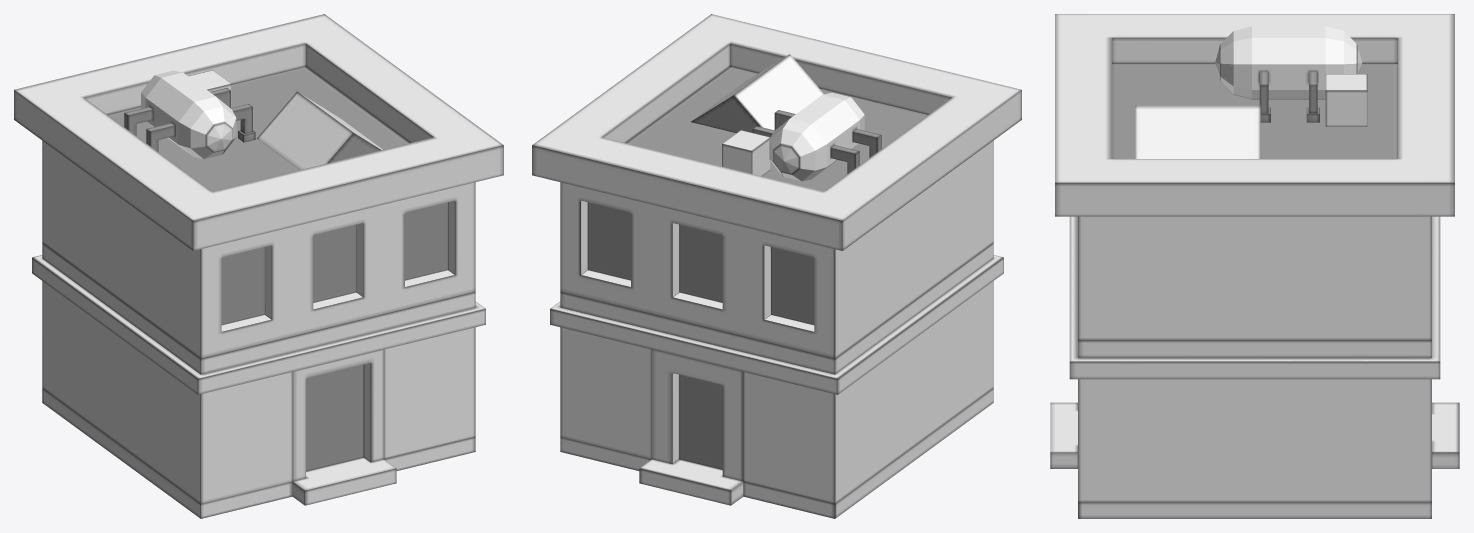
File: Building-09.fbx
The picture shows the model from 3 angles, left to right: view 1: azimuth 30°, elevation 25°; view 2: azimuth 150°, elevation 25°; view 3: azimuth 270°, elevation 25°; orthographic projection. The views are drawn at different scales.
Visible parts, largest first — view 1: Building_09; view 2: Building_09; view 3: Building_09.
Part boxes in pixels (left/top/right/bottom): Building_09: left=14, top=14, right=503, bottom=518; Building_09: left=532, top=14, right=1021, bottom=518; Building_09: left=1050, top=14, right=1459, bottom=518.
Size of the model in its own units: 2.26 by 2.38 by 2.31.
